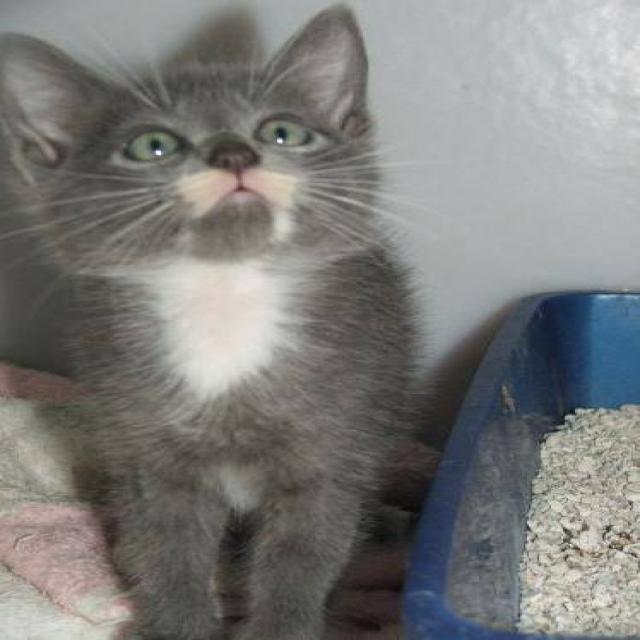cat: (0, 1, 435, 639)
